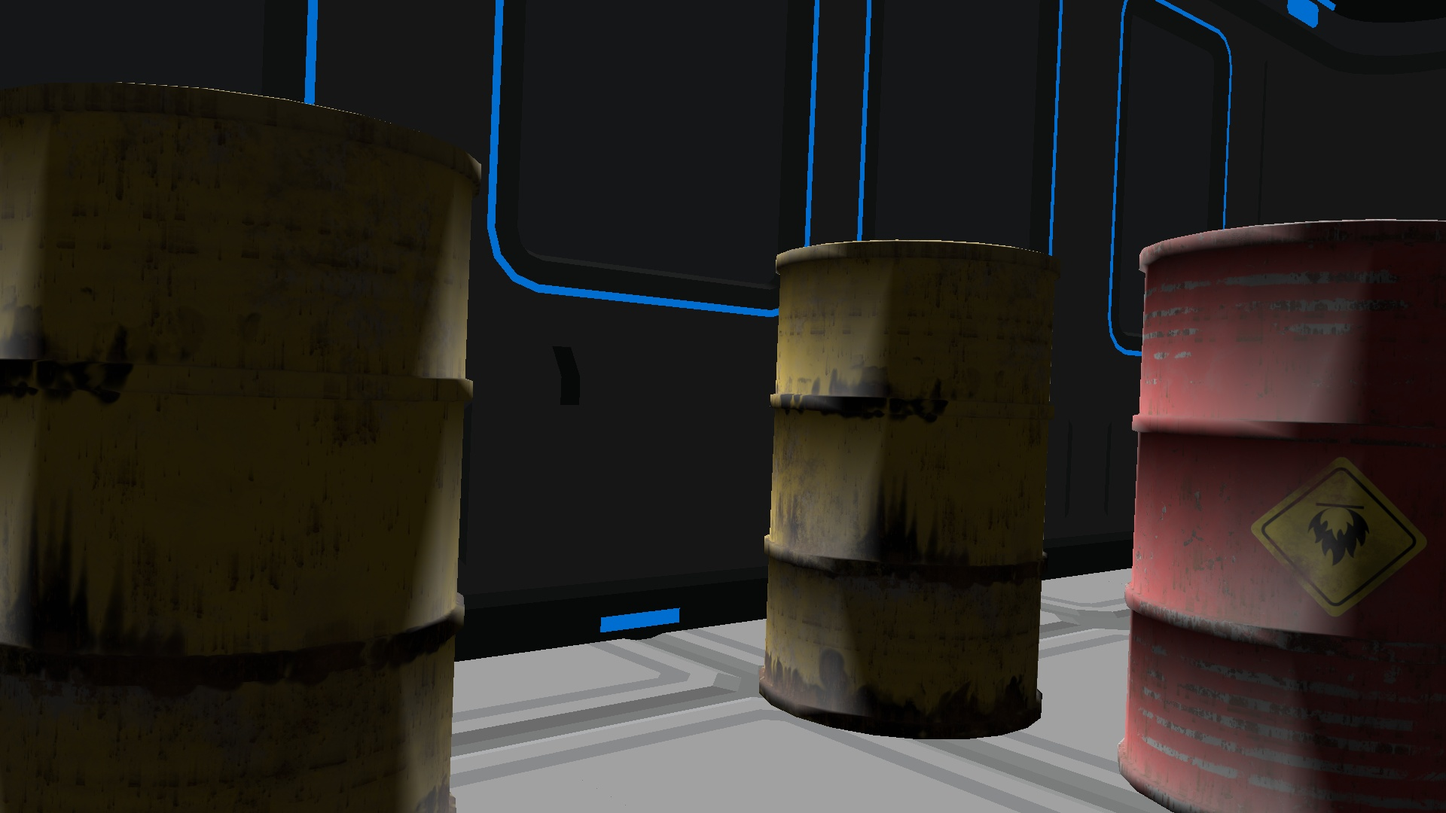toxic barrel: (0, 82, 482, 813), (1119, 219, 1446, 813), (757, 239, 1058, 741)
